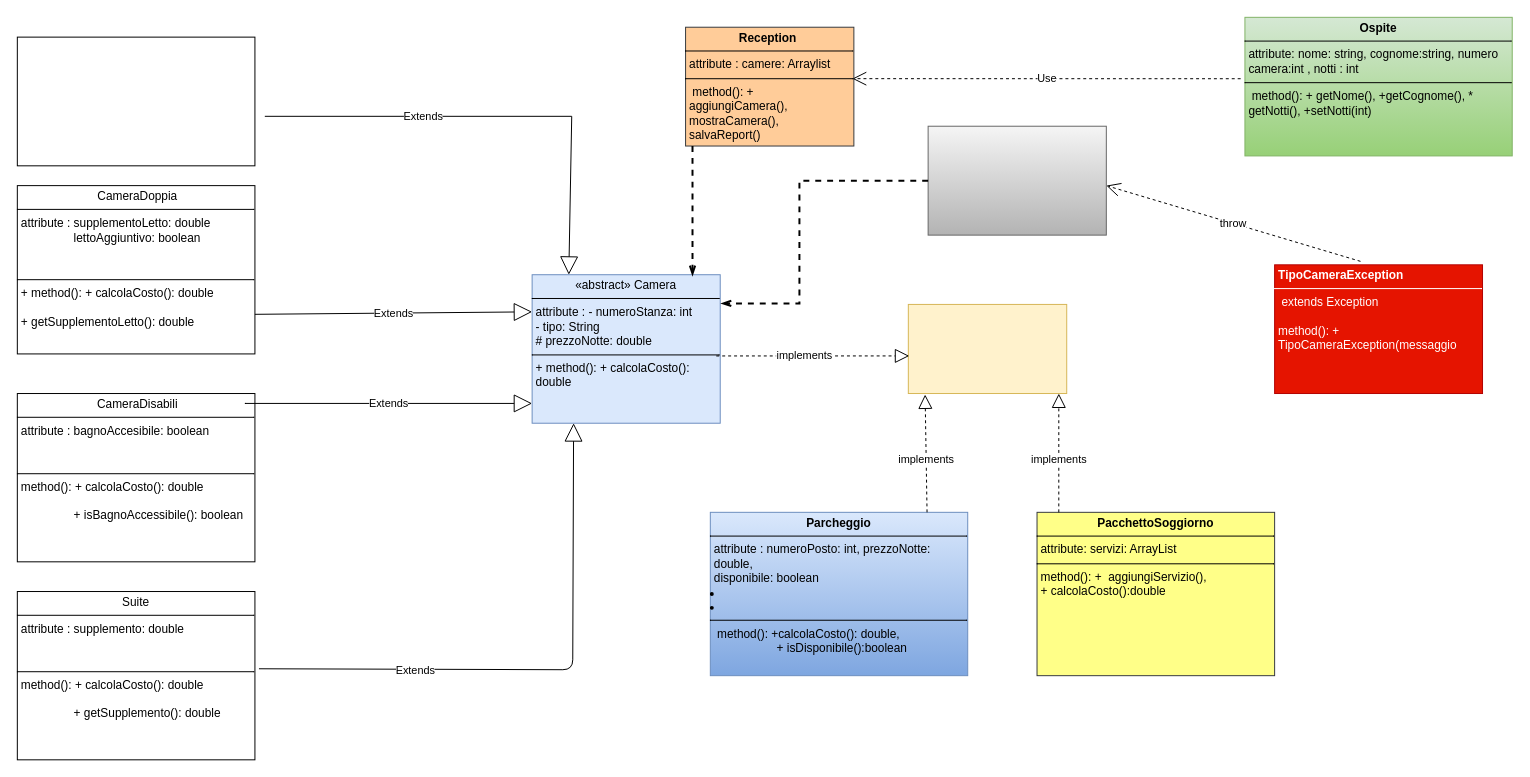
The diagram is 1530 pixels wide and 777 high, and some of its shapes have lost their labels. The shapes that lost their labels are listed below. From the top down, each one's centre as x and y in pixels, then its label:
point (135, 101): CameraSingola + method(): + calcolaCosto(): double
point (1016, 180): CameraFactory method(): + creaCamera(tipo, numeroStanza, prezzoNotte): camera
point (987, 348): <<interface>> Calcolabile attribute: + method(): + calcolaCosto(): double
